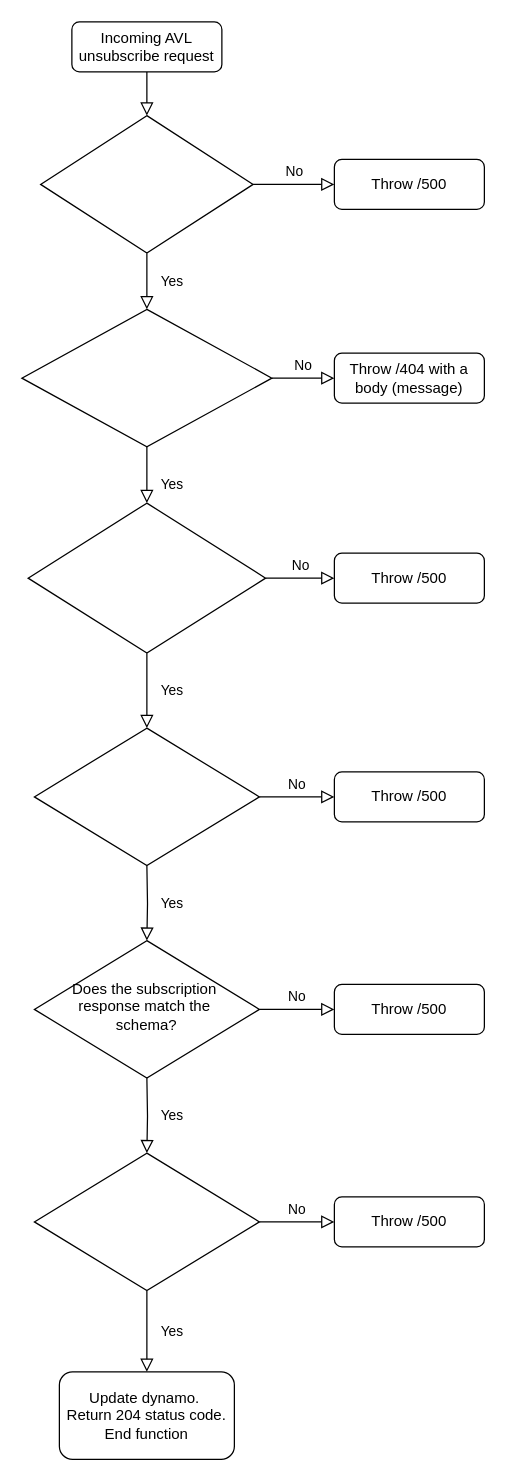
The diagram is 506 pixels wide and 1481 high, and some of its shapes have lost their labels. Here are the shapes that lost their labels. From the top down, the box of each, then its label:
(39, 114, 253, 253): Was subscription ID passed as a path parameter?
(21, 308, 272, 447): Does subscription exist in our dynamo table?
(27, 502, 266, 653): Do we have username and password in ssm for this subscription?
(33, 727, 259, 866): Was post request to data producer successful?
(33, 1152, 259, 1291): Did the data producer return a status of "true"?
